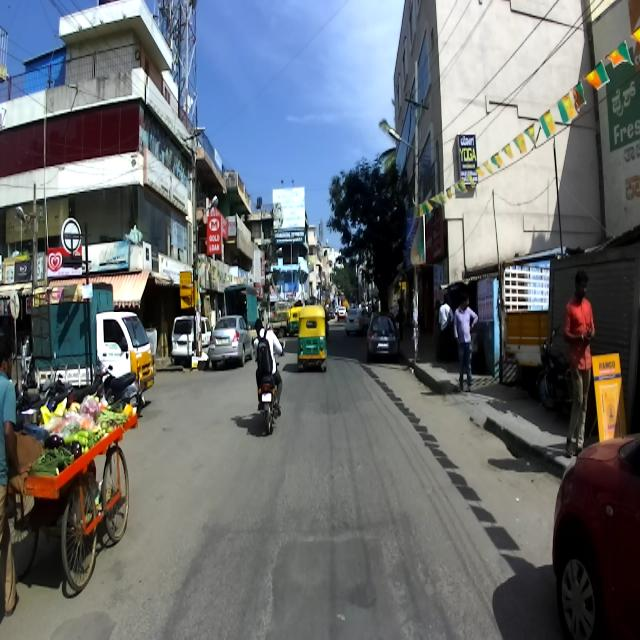auto ahead at: (296, 303, 332, 381)
car ahead at: (207, 310, 249, 378)
motorcycle ahead at: (256, 373, 286, 434)
person ahead at: (560, 274, 602, 458), (449, 292, 482, 393)
